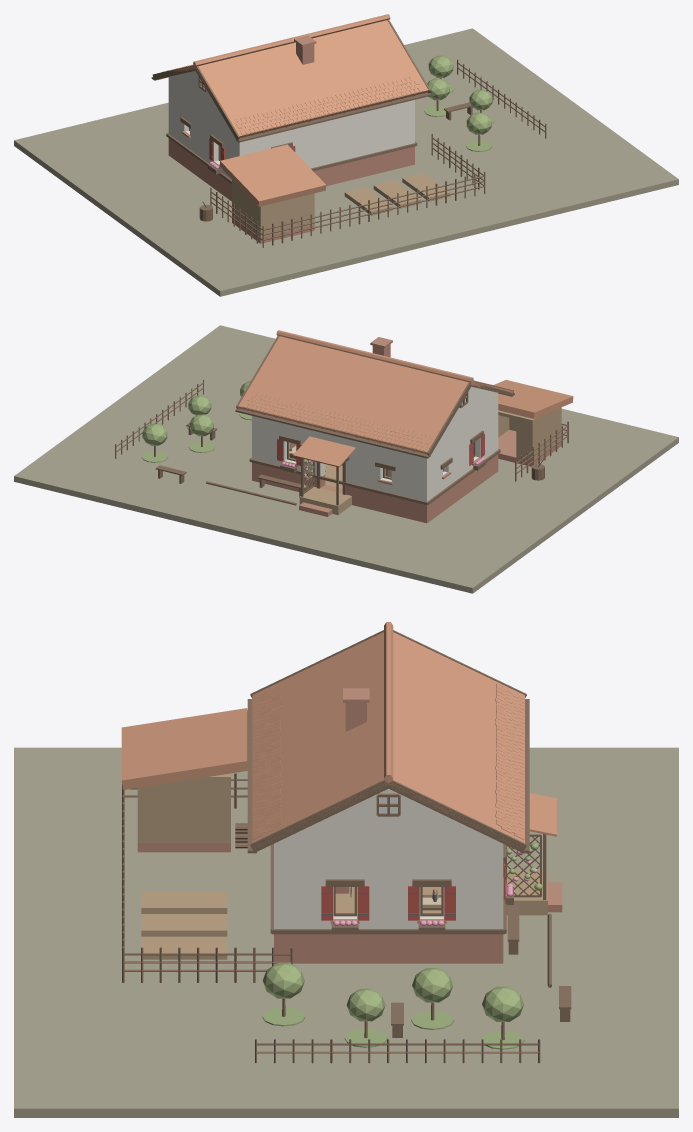
The model's file is red-stone-garden-house-7.glb.
The picture shows the model from 3 angles, top to bottom: view 1: azimuth 30°, elevation 25°; view 2: azimuth 150°, elevation 25°; view 3: azimuth 270°, elevation 25°; orthographic projection. The views are drawn at different scales.
Parts seen in each view (by area): view 1: zemlya__m00, krysha__m03, obolochka__m01, melochi__m02, obolochka__m00, obolochka__m09, melochi__m09, krysha__m02, zelen__m07, obolochka__m02, melochi__m07, krysha__m00; view 2: zemlya__m00, krysha__m03, obolochka__m01, obolochka__m00, obolochka__m09, melochi__m02, obolochka__m02, krysha__m02, zelen__m07, obolochka__m03, melochi__m07, obolochka__m05; view 3: zemlya__m00, krysha__m03, obolochka__m01, obolochka__m00, melochi__m02, obolochka__m09, melochi__m09, krysha__m02, obolochka__m02, zelen__m07, melochi__m07, obolochka__m05 (+2 smaller).
Part boxes in pixels (box(x1,y1,x2,y2)): zemlya__m00: box(14, 28, 678, 296); krysha__m03: box(161, 14, 428, 206); obolochka__m01: box(168, 70, 414, 179); melochi__m02: box(199, 59, 546, 247); obolochka__m00: box(168, 131, 414, 243); obolochka__m09: box(232, 180, 314, 237); melochi__m09: box(344, 173, 450, 215); krysha__m02: box(151, 19, 431, 142); zelen__m07: box(427, 55, 492, 134); obolochka__m02: box(166, 76, 417, 183); melochi__m07: box(424, 84, 494, 151); krysha__m00: box(294, 35, 316, 64); zemlya__m00: box(14, 325, 678, 593); krysha__m03: box(238, 330, 573, 454); obolochka__m01: box(252, 386, 498, 501); obolochka__m00: box(252, 429, 561, 523); obolochka__m09: box(299, 407, 561, 514); melochi__m02: box(115, 379, 568, 505); obolochka__m02: box(249, 392, 500, 505); krysha__m02: box(235, 335, 514, 458); zelen__m07: box(142, 381, 250, 445); obolochka__m03: box(293, 436, 355, 467); melochi__m07: box(141, 413, 313, 488); obolochka__m05: box(277, 433, 484, 465); zemlya__m00: box(14, 747, 678, 1117); krysha__m03: box(121, 622, 524, 849); obolochka__m01: box(274, 788, 503, 928); obolochka__m00: box(137, 843, 562, 963); melochi__m02: box(122, 773, 571, 1063); obolochka__m09: box(137, 773, 547, 915); melochi__m09: box(141, 891, 227, 959); krysha__m02: box(247, 630, 529, 853); obolochka__m02: box(270, 793, 546, 934); zelen__m07: box(262, 963, 523, 1021); melochi__m07: box(262, 843, 542, 1049); obolochka__m05: box(321, 863, 505, 920).
Bounding box in the file's own units: 23.83 × 6.56 × 18.55.
